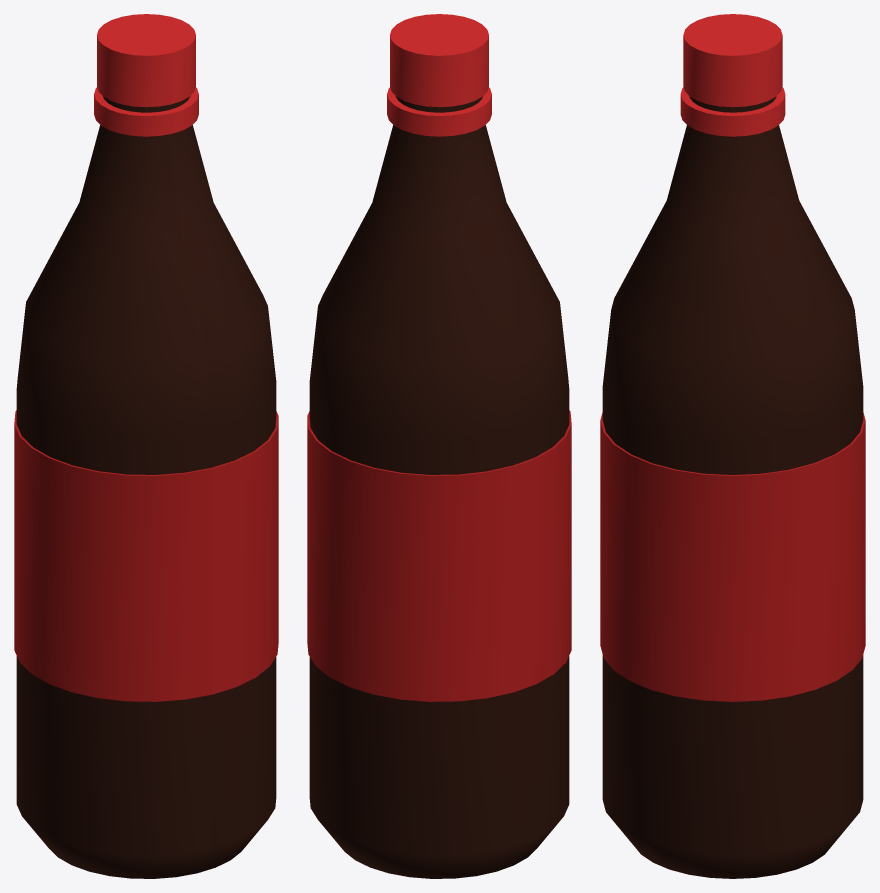
Rendered from soda-bottle.glb.
The picture shows the model from 3 angles, left to right: view 1: azimuth 30°, elevation 25°; view 2: azimuth 150°, elevation 25°; view 3: azimuth 270°, elevation 25°; orthographic projection.
Parts seen in each view (by area): view 1: Bottle_Body, Bottle_Label, Bottle_Cap, Bottle_Neck_Collar; view 2: Bottle_Body, Bottle_Label, Bottle_Cap, Bottle_Neck_Collar; view 3: Bottle_Body, Bottle_Label, Bottle_Cap, Bottle_Neck_Collar.
Boxes of the visible parts, bbox=[...] form: Bottle_Body: bbox=[16, 96, 276, 878]; Bottle_Label: bbox=[14, 410, 278, 701]; Bottle_Cap: bbox=[97, 14, 195, 107]; Bottle_Neck_Collar: bbox=[94, 87, 198, 136]; Bottle_Body: bbox=[309, 96, 569, 878]; Bottle_Label: bbox=[307, 410, 571, 701]; Bottle_Cap: bbox=[390, 14, 488, 107]; Bottle_Neck_Collar: bbox=[387, 87, 491, 136]; Bottle_Body: bbox=[602, 96, 863, 878]; Bottle_Label: bbox=[600, 412, 865, 701]; Bottle_Cap: bbox=[683, 14, 782, 107]; Bottle_Neck_Collar: bbox=[680, 87, 785, 136].
Size of the model in its own units: 0.0936 by 0.312 by 0.0936.
